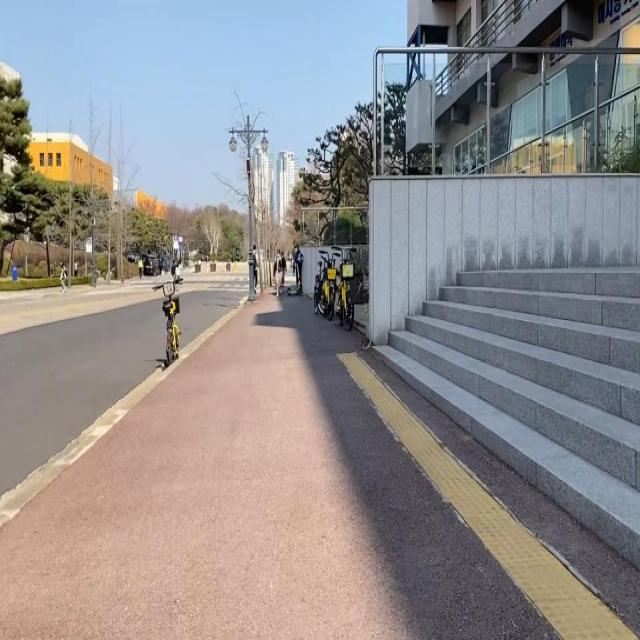sidewalk: (0, 292, 640, 639)
